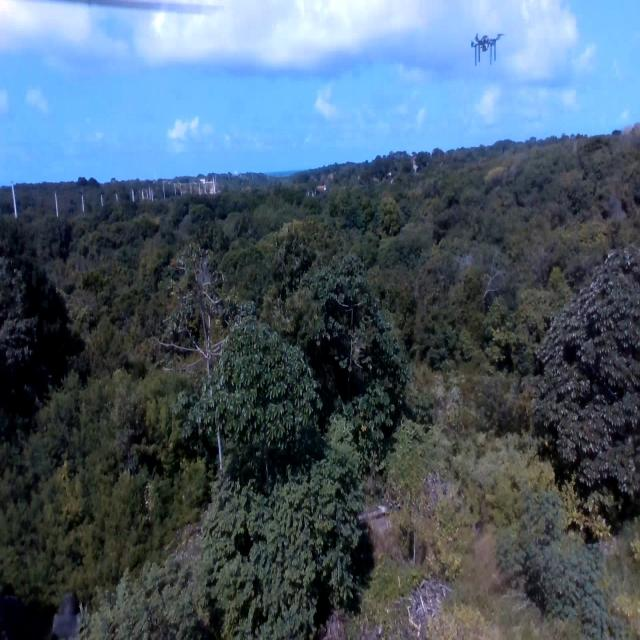-uav-: (465, 19, 507, 80)
